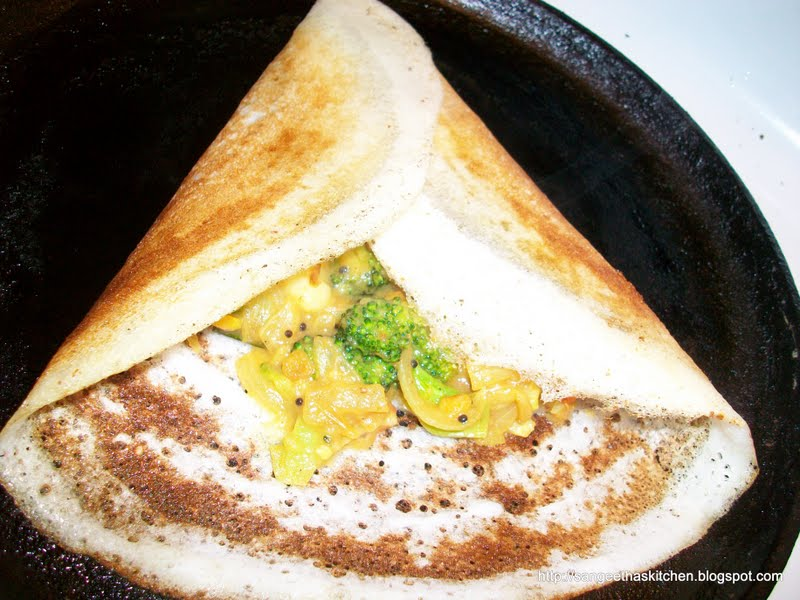dosa: (2, 2, 763, 600)
